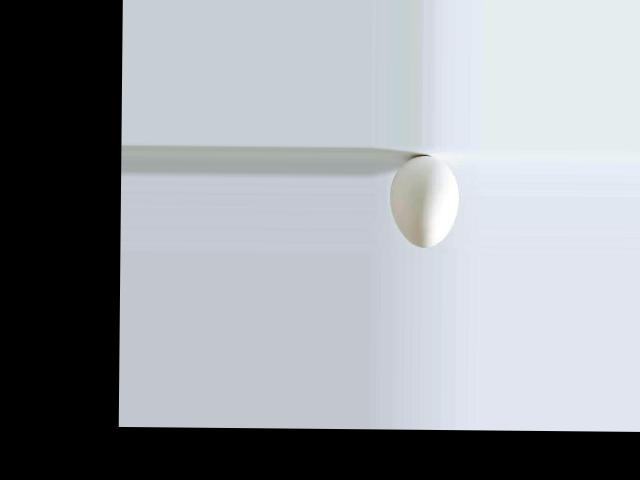egg: (390, 155, 459, 248)
